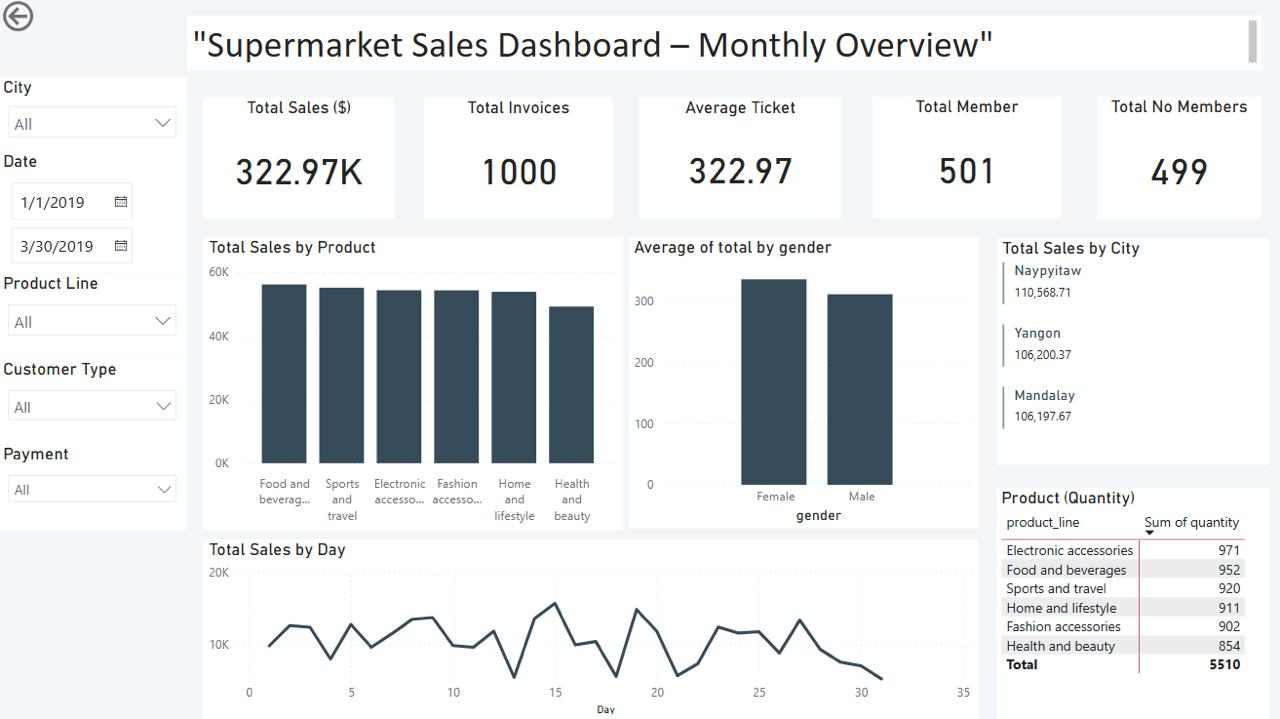

This screenshot's page, from the dashboard's own definition file:
{"tool":"powerbi","page":{"name":"Overview","canvas":[1280,720],"ordinal":0},"visuals":[{"type":"card","title":"Total Sales ($)","fields":{"Values":["Sum(supermarket_cleaned.total)"]},"box":[205.1,100.8,189.5,121.2],"z":0},{"type":"columnChart","title":"Total Sales by Product","fields":{"Category":["supermarket_cleaned.product_line"],"Y":["Sum(supermarket_cleaned.total)"]},"box":[205.1,239.7,417.9,292.3],"z":1000},{"type":"lineChart","title":"Total Sales by Day","fields":{"Category":["supermarket_cleaned.date.Variation.Date Hierarchy.Day"],"Y":["Sum(supermarket_cleaned.total)"]},"box":[205.1,541,771.8,179.5],"z":2000},{"type":"columnChart","fields":{"Category":["supermarket_cleaned.gender"],"Y":["Avg(supermarket_cleaned.total)"]},"box":[628.2,239.7,348.7,289.7],"z":3000},{"type":"multiRowCard","title":"Total Sales by City","fields":{"Values":["supermarket_cleaned.city","Sum(supermarket_cleaned.total)"]},"box":[996.2,241,270.5,225.6],"z":4000},{"type":"textbox","box":[188.9,19,1071.1,53.7],"z":5000},{"type":"card","title":"Total Invoices","fields":{"Values":["CountNonNull(supermarket_cleaned.branch)"]},"box":[424.4,101.3,188.5,120.5],"z":6000},{"type":"card","title":"Average Ticket","fields":{"Values":["Avg(supermarket_cleaned.total)"]},"box":[639.7,101.3,201.3,120.5],"z":7000},{"type":"card","title":"Total Member","fields":{"Values":["CountNonNull(supermarket_cleaned.customer_type)"]},"box":[871.8,100,188.5,120.5],"z":8000},{"type":"actionButton","box":[0,0,100,40],"z":9000},{"type":"card","title":"Total No Members","fields":{"Values":["CountNonNull(supermarket_cleaned.customer_type)"]},"box":[1096.2,100,162.8,121.8],"z":10000},{"type":"slicer","title":"City","fields":{"Values":["supermarket_cleaned.city"]},"box":[0,80.4,188.3,74.4],"z":11000},{"type":"slicer","title":"Date","fields":{"Values":["supermarket_cleaned.date"]},"box":[0,154.8,188.3,121.2],"z":12000},{"type":"slicer","title":"Product Line","fields":{"Values":["supermarket_cleaned.product_line"]},"box":[0,275.9,188.3,85.2],"z":12001},{"type":"slicer","title":"Customer Type","fields":{"Values":["supermarket_cleaned.customer_type"]},"box":[0.4,361.2,188.4,85.3],"z":12002},{"type":"slicer","title":"Payment","fields":{"Values":["supermarket_cleaned.payment"]},"box":[0,446.3,188.3,86.4],"z":12003},{"type":"pivotTable","title":"Product (Quantity)","fields":{"Rows":["supermarket_cleaned.product_line"],"Values":["Sum(supermarket_cleaned.quantity)"]},"box":[994.9,489.7,271.8,230.8],"z":12004}]}

Visuals, with their boxes on the page's 1280x720 design canvas (x1, y1, x2, y2). These are canvas units, not pixel positions in the 1280x719 screenshot, which may show the page scaled, cropped or inside an application window:
"Total Sales ($)" card: {"x1": 205, "y1": 101, "x2": 395, "y2": 222}
"Total Sales by Product" columnChart: {"x1": 205, "y1": 240, "x2": 623, "y2": 532}
"Total Sales by Day" lineChart: {"x1": 205, "y1": 541, "x2": 977, "y2": 720}
columnChart - supermarket_cleaned.gender x Avg(supermarket_cleaned.total): {"x1": 628, "y1": 240, "x2": 977, "y2": 529}
"Total Sales by City" multiRowCard: {"x1": 996, "y1": 241, "x2": 1267, "y2": 467}
textbox: {"x1": 189, "y1": 19, "x2": 1260, "y2": 73}
"Total Invoices" card: {"x1": 424, "y1": 101, "x2": 613, "y2": 222}
"Average Ticket" card: {"x1": 640, "y1": 101, "x2": 841, "y2": 222}
"Total Member" card: {"x1": 872, "y1": 100, "x2": 1060, "y2": 220}
actionButton: {"x1": 0, "y1": 0, "x2": 100, "y2": 40}
"Total No Members" card: {"x1": 1096, "y1": 100, "x2": 1259, "y2": 222}
"City" slicer: {"x1": 0, "y1": 80, "x2": 188, "y2": 155}
"Date" slicer: {"x1": 0, "y1": 155, "x2": 188, "y2": 276}
"Product Line" slicer: {"x1": 0, "y1": 276, "x2": 188, "y2": 361}
"Customer Type" slicer: {"x1": 0, "y1": 361, "x2": 189, "y2": 446}
"Payment" slicer: {"x1": 0, "y1": 446, "x2": 188, "y2": 533}
"Product (Quantity)" pivotTable: {"x1": 995, "y1": 490, "x2": 1267, "y2": 720}
